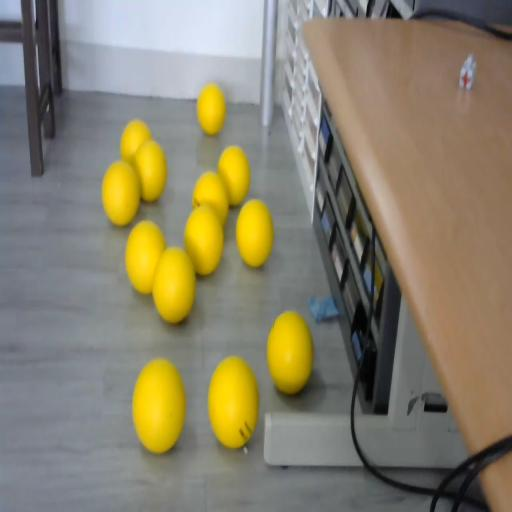FUEL: (132, 356, 186, 452), (207, 355, 259, 448), (266, 311, 314, 396), (152, 246, 196, 324), (184, 204, 224, 276), (235, 198, 274, 267), (102, 160, 140, 226), (134, 139, 168, 202), (218, 145, 250, 206), (197, 82, 226, 134)
